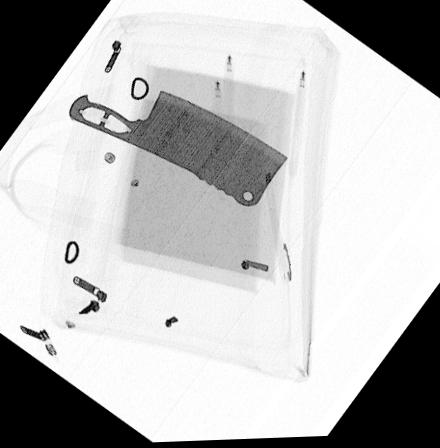Knife: (65, 89, 290, 210)
